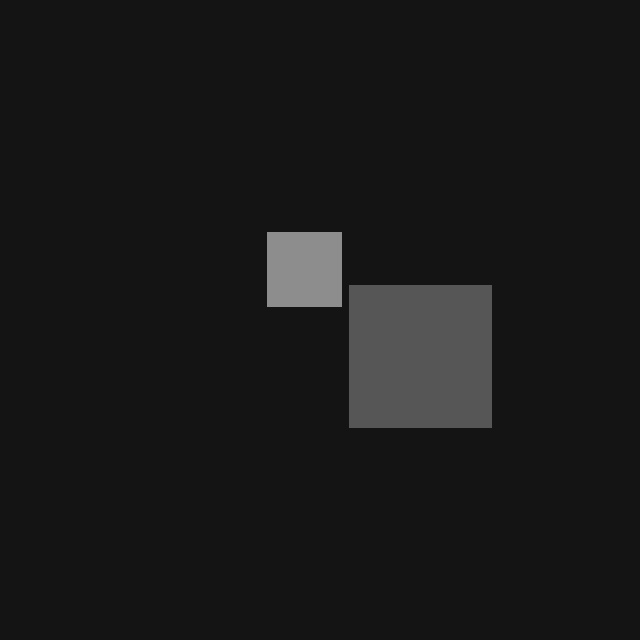square: (349, 285, 491, 427), (267, 232, 341, 306)
